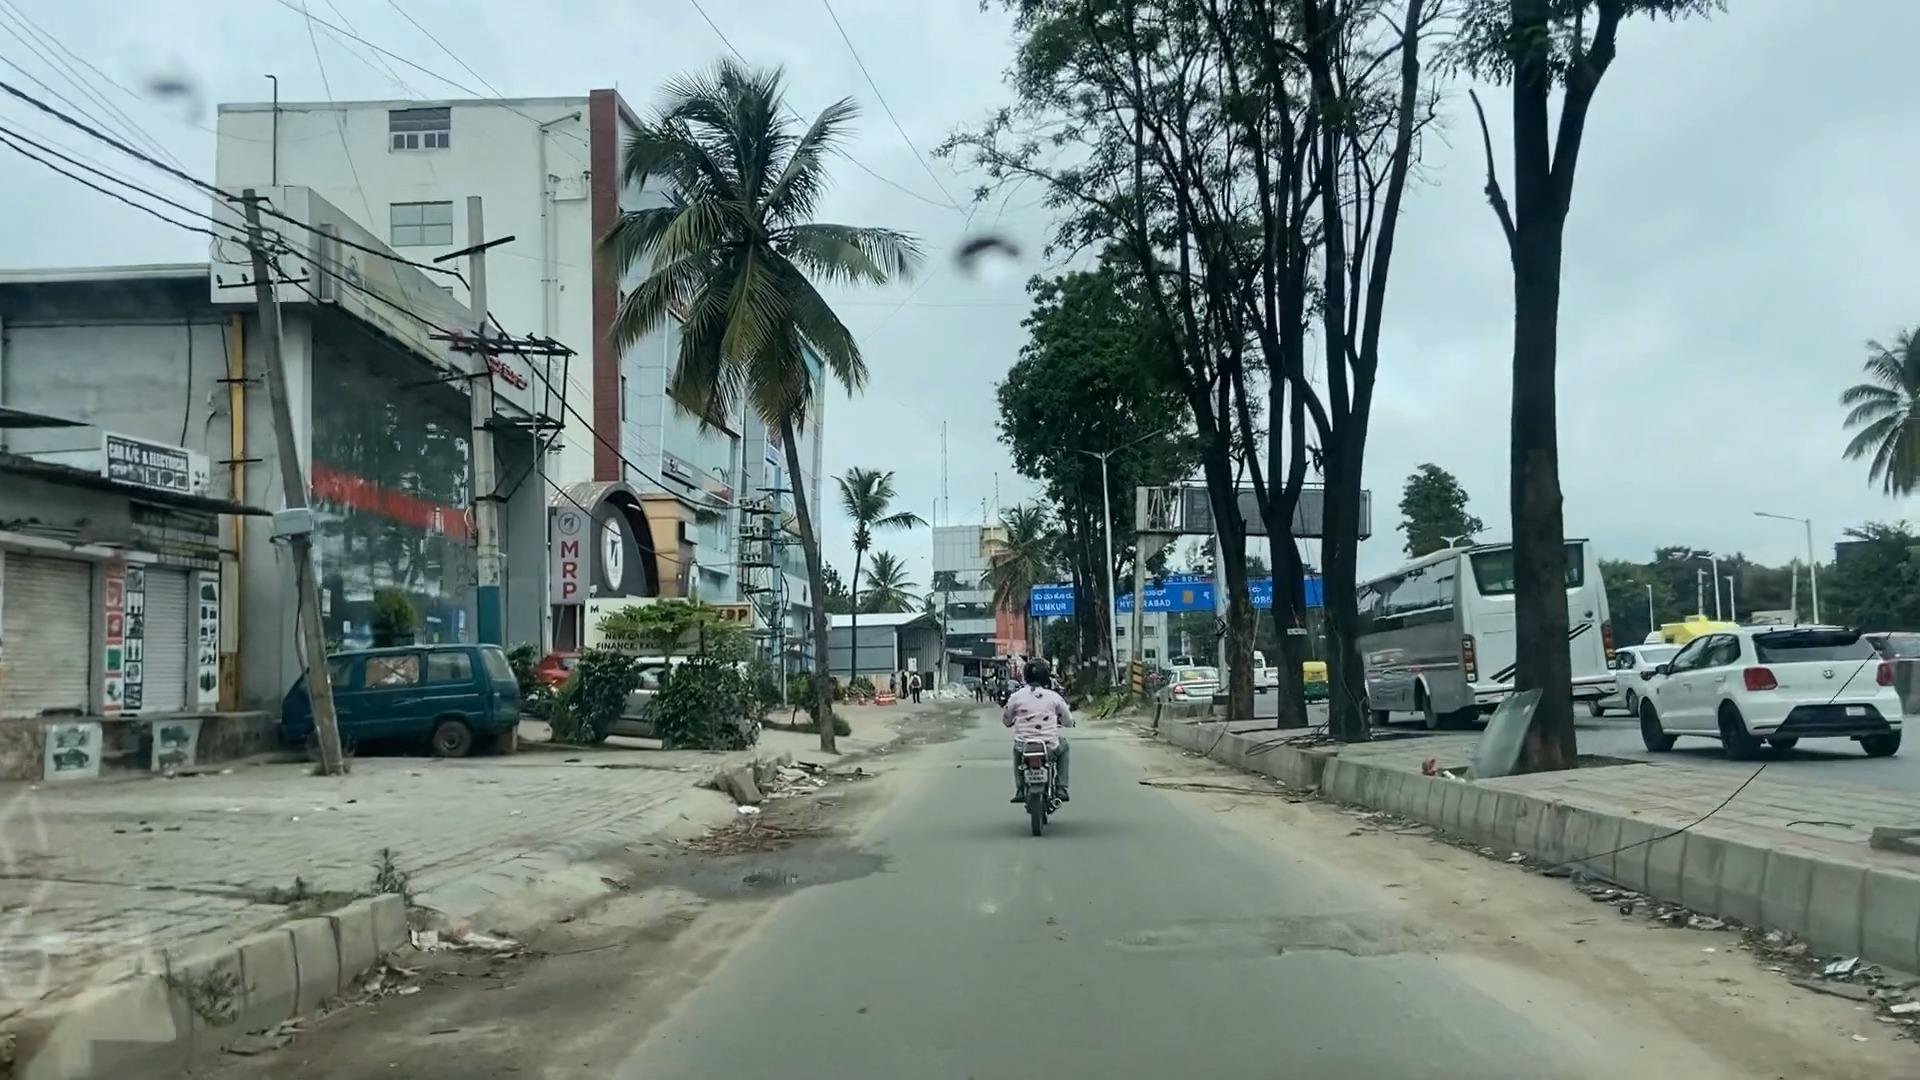LMV: (1013, 650, 1068, 831)
RoadDamages: (1143, 907, 1590, 973), (419, 973, 637, 1080), (674, 803, 872, 914)
